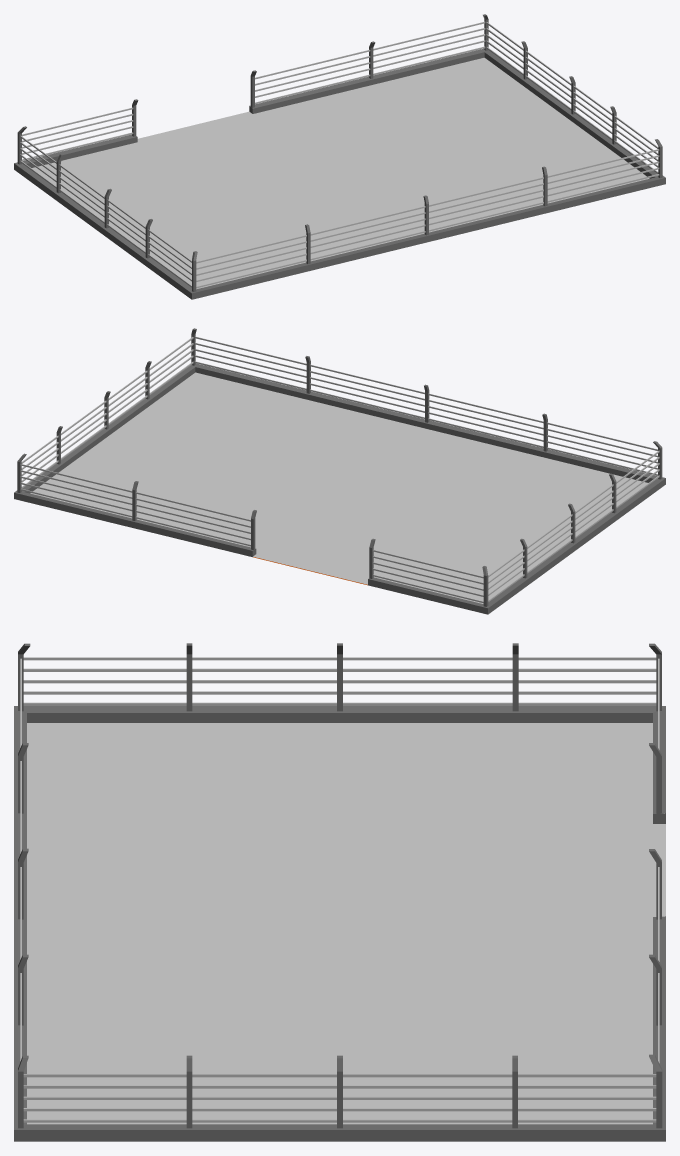
The model's file is Basket.fbx.
3 renders of one model, top to bottom at view 1: azimuth 30°, elevation 25°; view 2: azimuth 150°, elevation 25°; view 3: azimuth 270°, elevation 25°, orthographic. The views are drawn at different scales.
Visible parts, largest first — view 1: Basket; view 2: Basket; view 3: Basket.
Boxes of the visible parts, x1,y1,x2,y2 form: Basket: [14, 14, 665, 299]; Basket: [14, 328, 665, 614]; Basket: [14, 643, 665, 1141].
Size of what is drawn, in the model's own units: 40 by 3.5 by 26.
